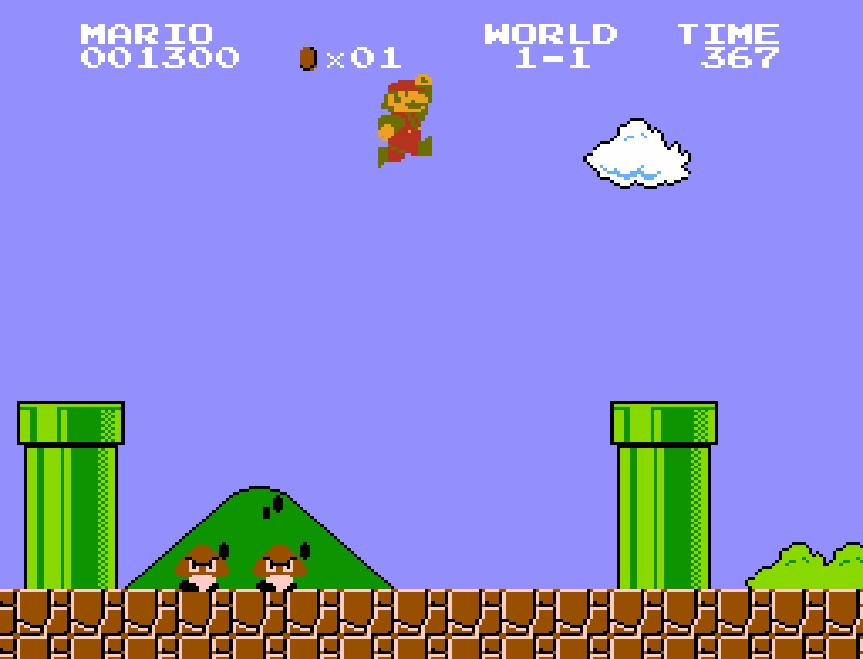big_mario: (376, 70, 434, 168)
